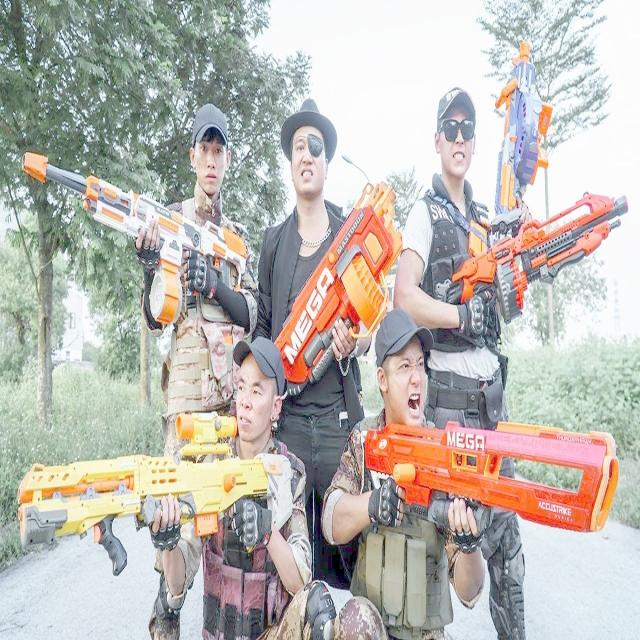Nerf gun: (11, 408, 298, 580), (18, 138, 249, 322), (359, 412, 623, 543), (269, 178, 407, 389), (424, 188, 630, 329), (481, 37, 556, 233)
